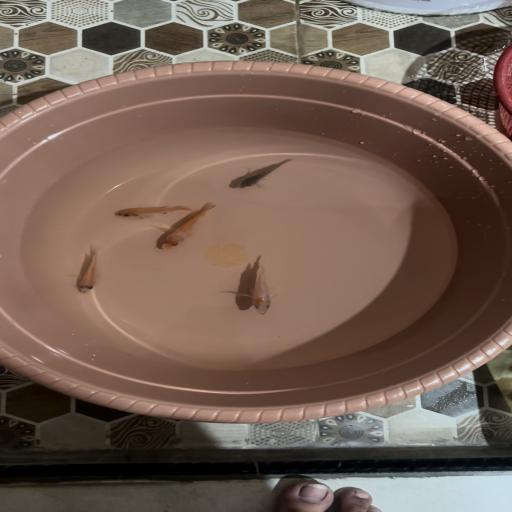nila: (154, 200, 223, 254), (236, 260, 284, 319), (66, 242, 116, 296), (231, 158, 297, 192), (105, 199, 193, 222)
